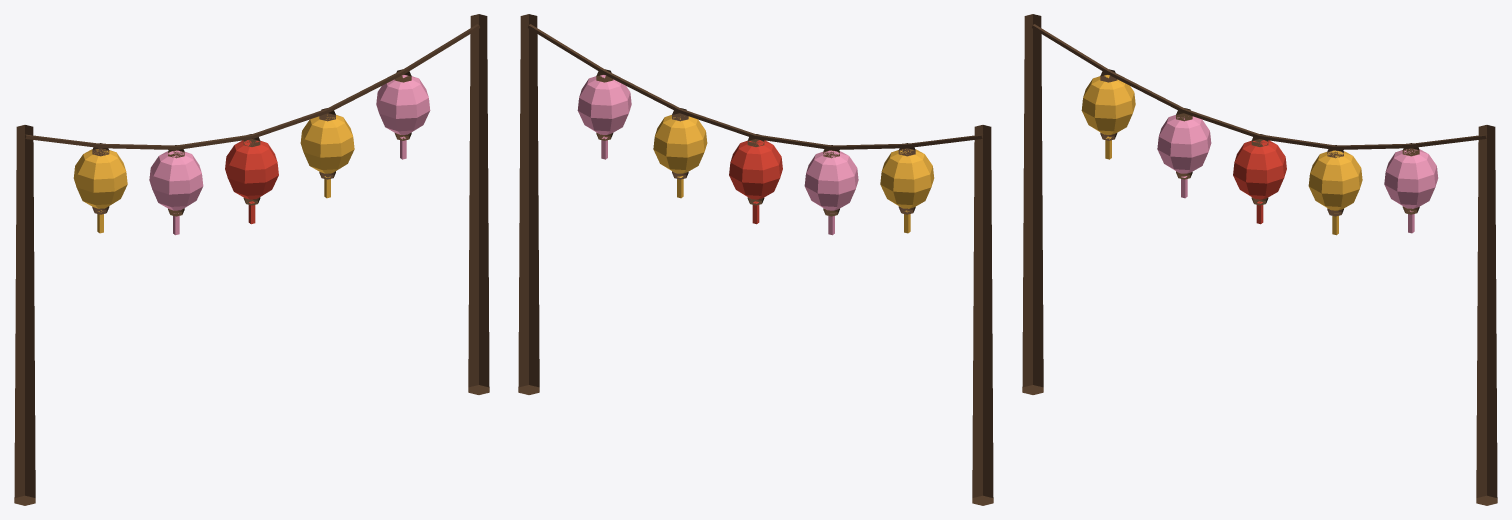
The model's file is viet_lantern_string.glb.
3 renders of one model, left to right at view 1: azimuth 30°, elevation 25°; view 2: azimuth 150°, elevation 25°; view 3: azimuth 330°, elevation 25°, orthographic.
Visible parts, largest first — view 1: viet_lantern_string; view 2: viet_lantern_string; view 3: viet_lantern_string.
Boxes of the visible parts, left/top/right/bottom form: viet_lantern_string: left=14, top=14, right=489, bottom=505; viet_lantern_string: left=518, top=14, right=993, bottom=505; viet_lantern_string: left=1022, top=14, right=1497, bottom=505.
Size of the model in its own units: 1 by 0.7484 by 0.1019.
